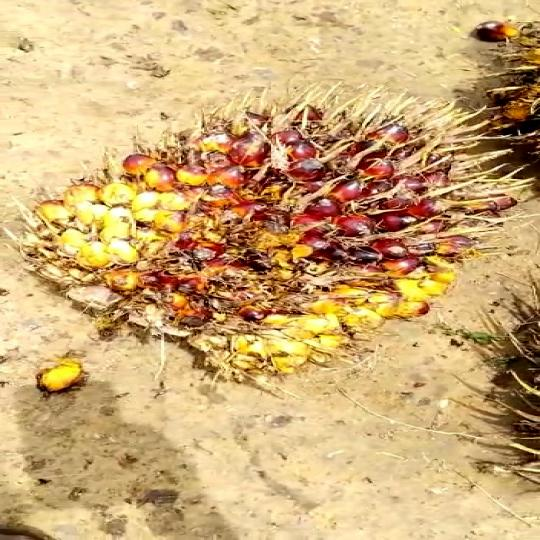masak: (29, 100, 510, 383)
